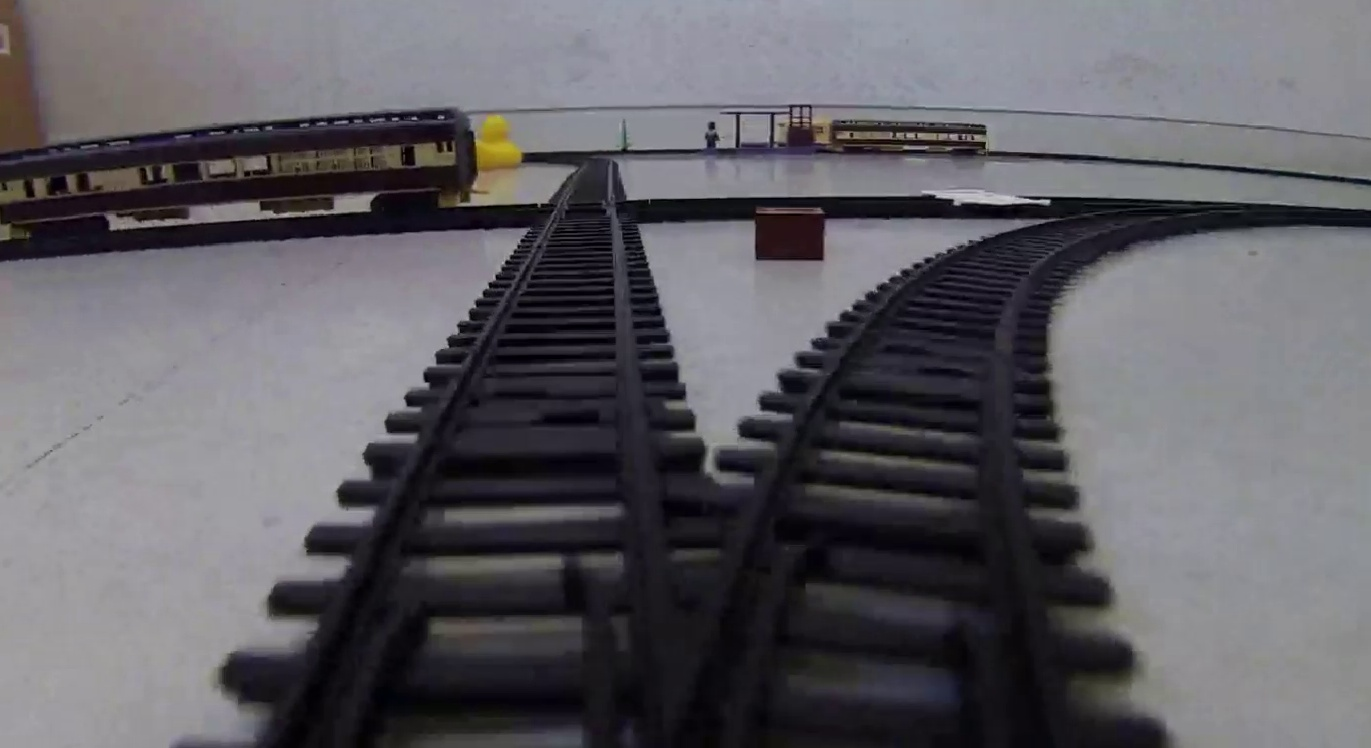box: (756, 209, 822, 261)
web: (921, 184, 1055, 208)
